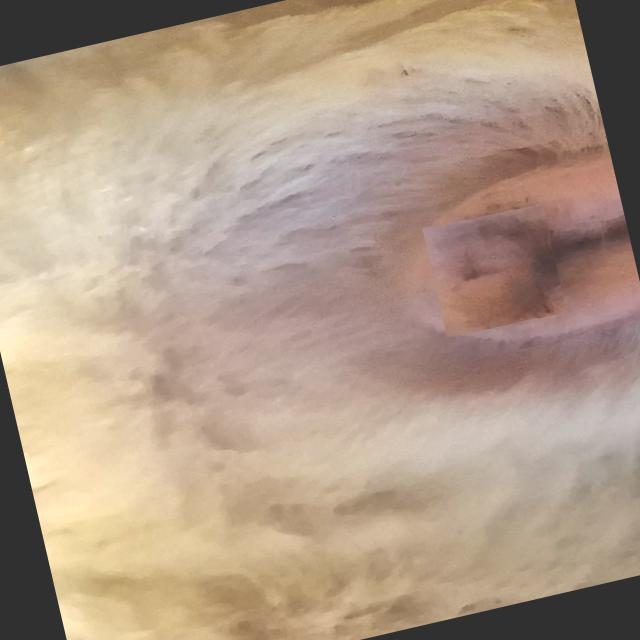mae: (401, 131, 640, 366)
mal: (421, 204, 563, 335)
